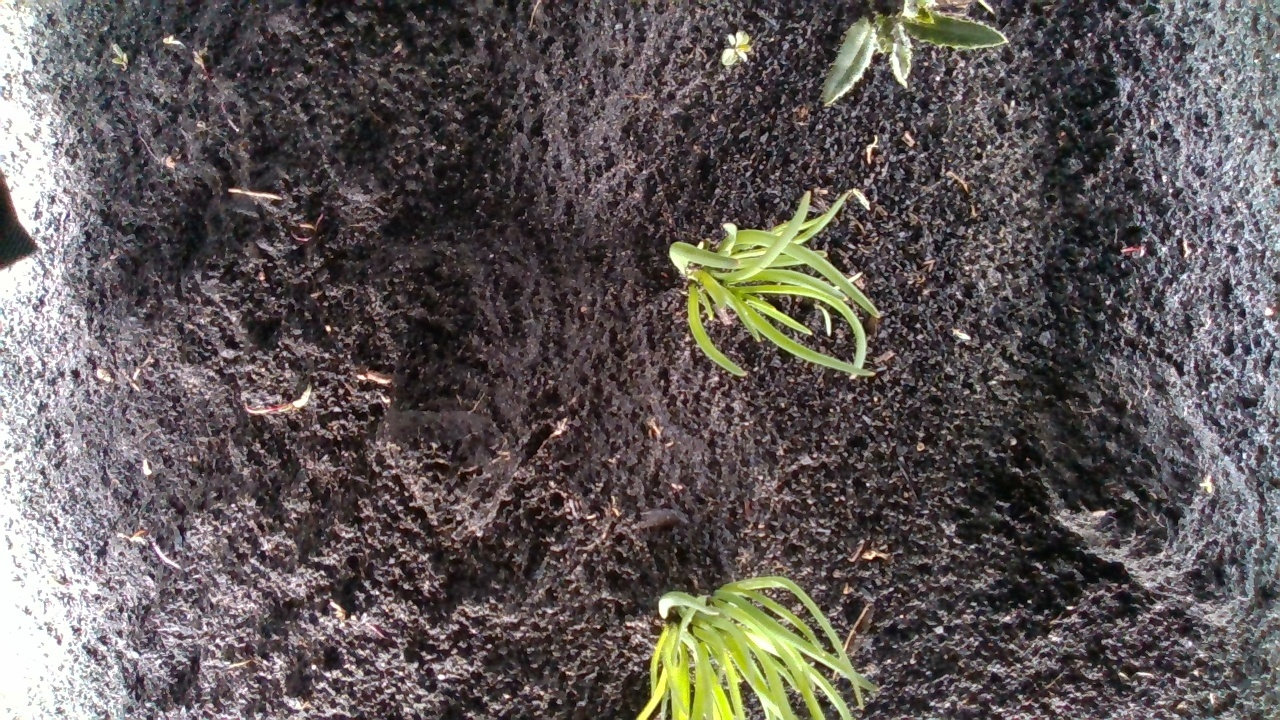weed: (721, 26, 752, 70)
